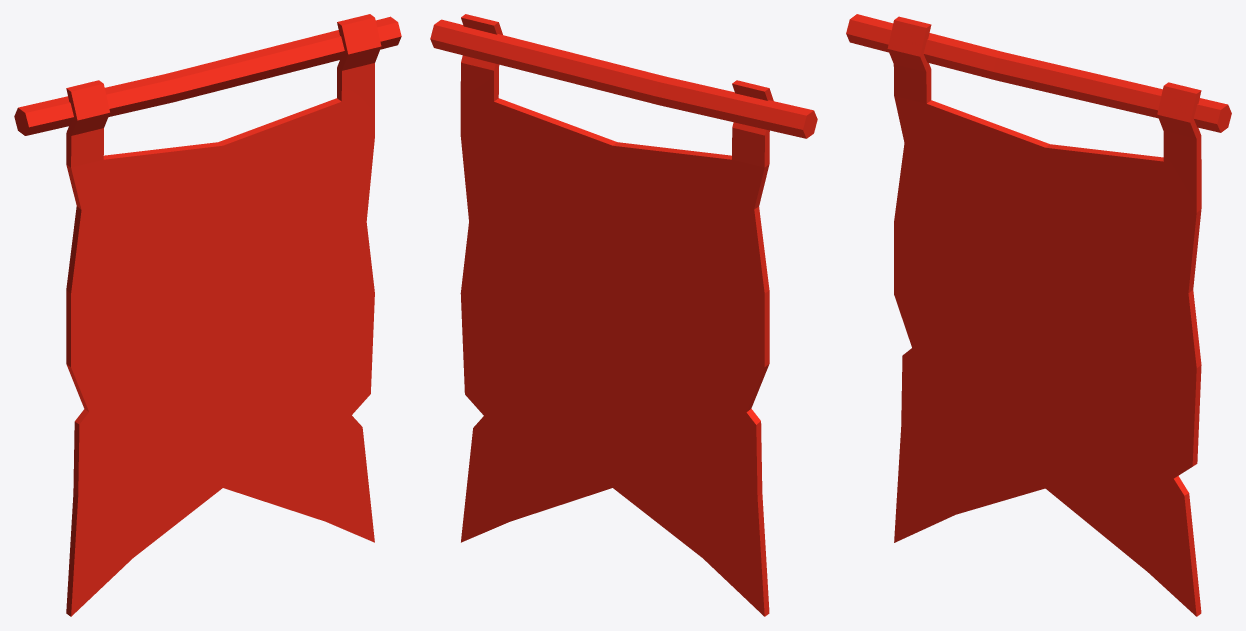
The model's file is FlagWithCorrectUVS.fbx.
The picture shows the model from 3 angles, left to right: view 1: azimuth 30°, elevation 25°; view 2: azimuth 150°, elevation 25°; view 3: azimuth 330°, elevation 25°; orthographic projection.
Visible parts, largest first — view 1: SM_Prop_Banner_01; view 2: SM_Prop_Banner_01; view 3: SM_Prop_Banner_01.
Boxes of the visible parts, bbox=[...] form: SM_Prop_Banner_01: bbox=[14, 14, 401, 616]; SM_Prop_Banner_01: bbox=[430, 14, 817, 616]; SM_Prop_Banner_01: bbox=[846, 14, 1231, 616].
Bounding box in the file's own units: 240 × 323 × 20.26.
